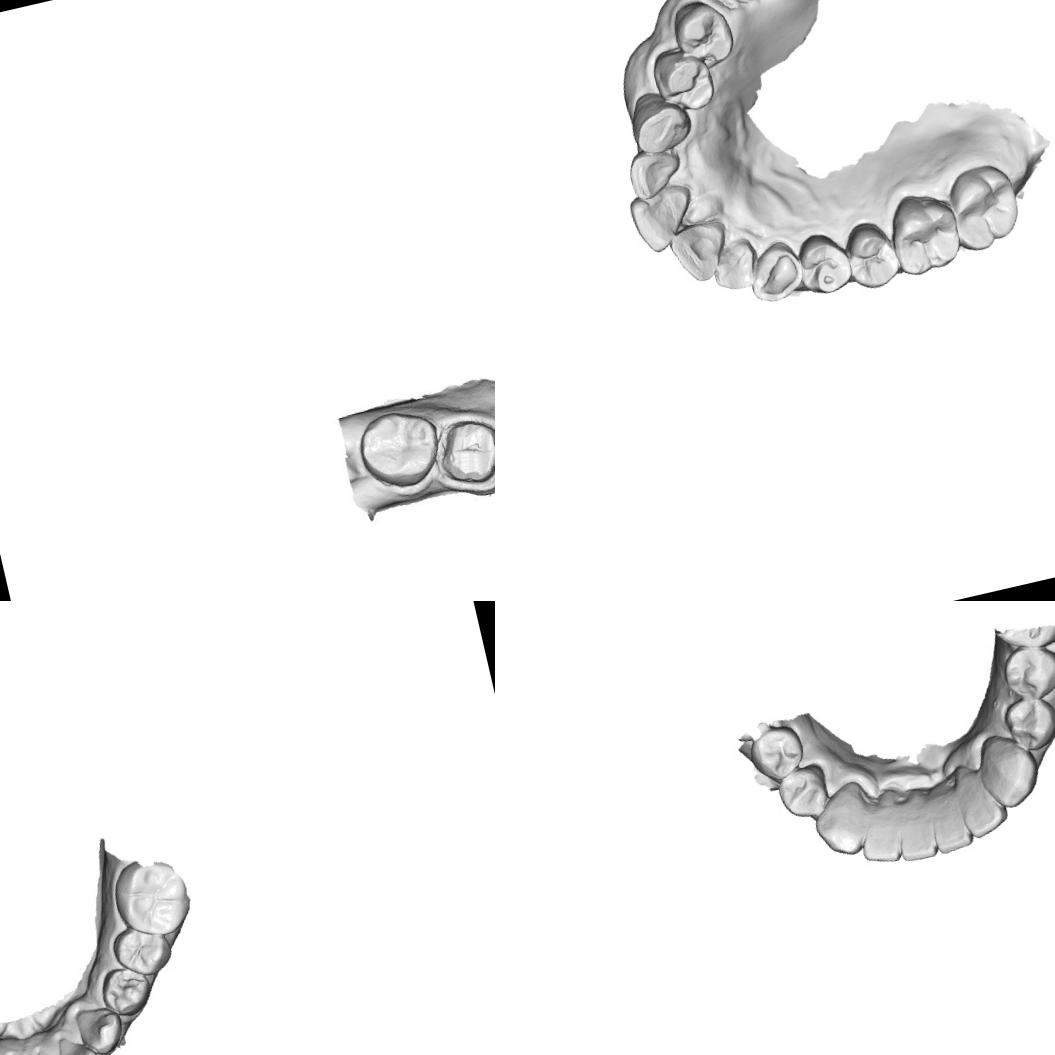canine: (972, 728, 1046, 815), (806, 786, 874, 868), (623, 84, 697, 159), (742, 236, 807, 307), (73, 1001, 127, 1055)
crown: (435, 417, 495, 494)
incisor: (623, 180, 704, 260), (663, 216, 739, 290), (954, 764, 1012, 840), (622, 142, 690, 206), (706, 240, 764, 298), (926, 794, 975, 858), (889, 807, 942, 866), (853, 810, 905, 870), (53, 1030, 101, 1055)
molar: (351, 403, 448, 501), (940, 157, 1030, 257), (106, 850, 197, 944), (880, 184, 963, 282)
premolar: (646, 40, 720, 120), (838, 214, 906, 294), (665, 0, 739, 71), (790, 225, 858, 300), (109, 919, 176, 983), (745, 721, 811, 785), (996, 637, 1055, 705), (997, 693, 1055, 757), (772, 763, 834, 822), (96, 962, 156, 1022)
